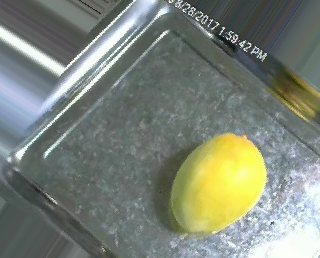Mango: (164, 125, 274, 242)
